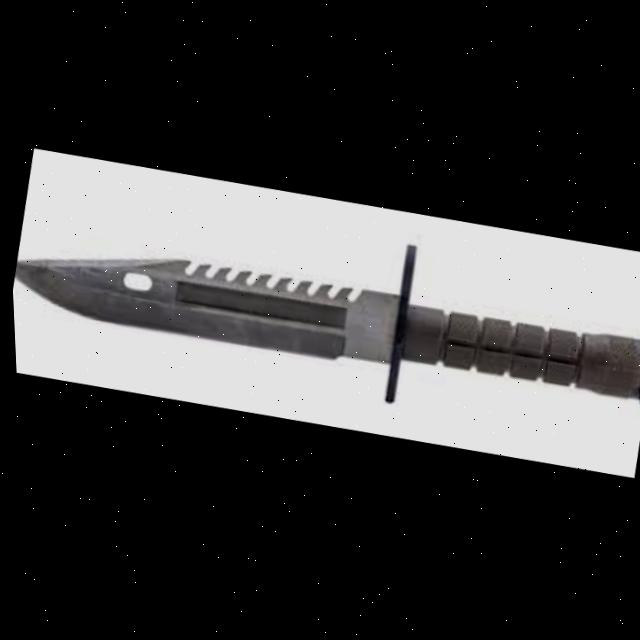Knife: (6, 166, 640, 457)
